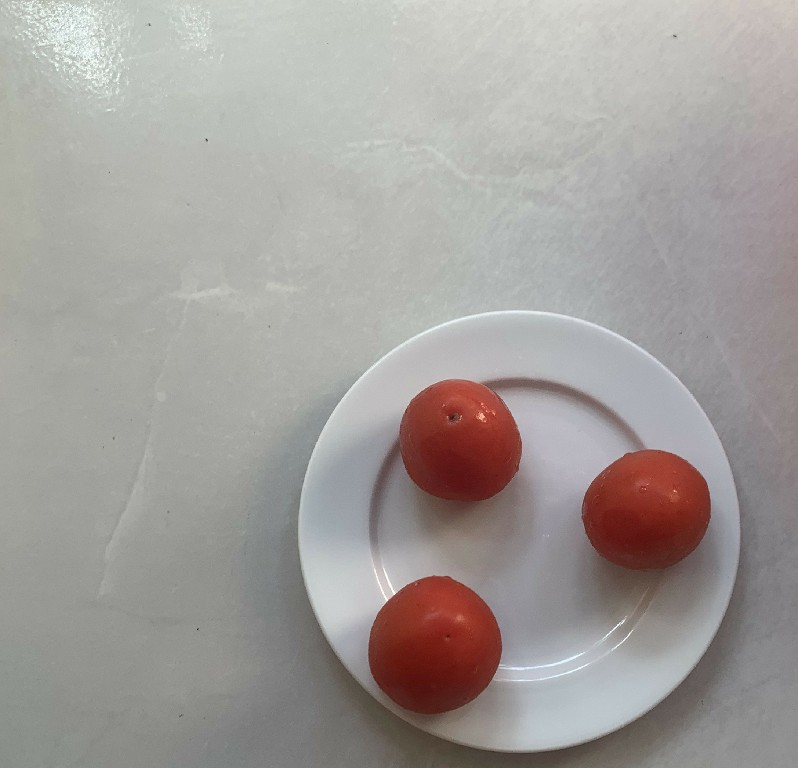OK: (365, 566, 506, 722), (576, 444, 719, 584), (397, 373, 523, 502)
